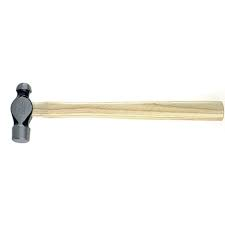hammer: (11, 82, 225, 144)
